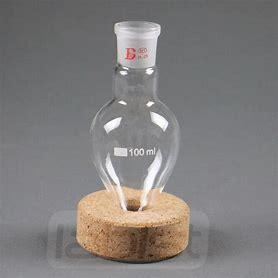Pear shaped flask: (85, 20, 186, 205)
